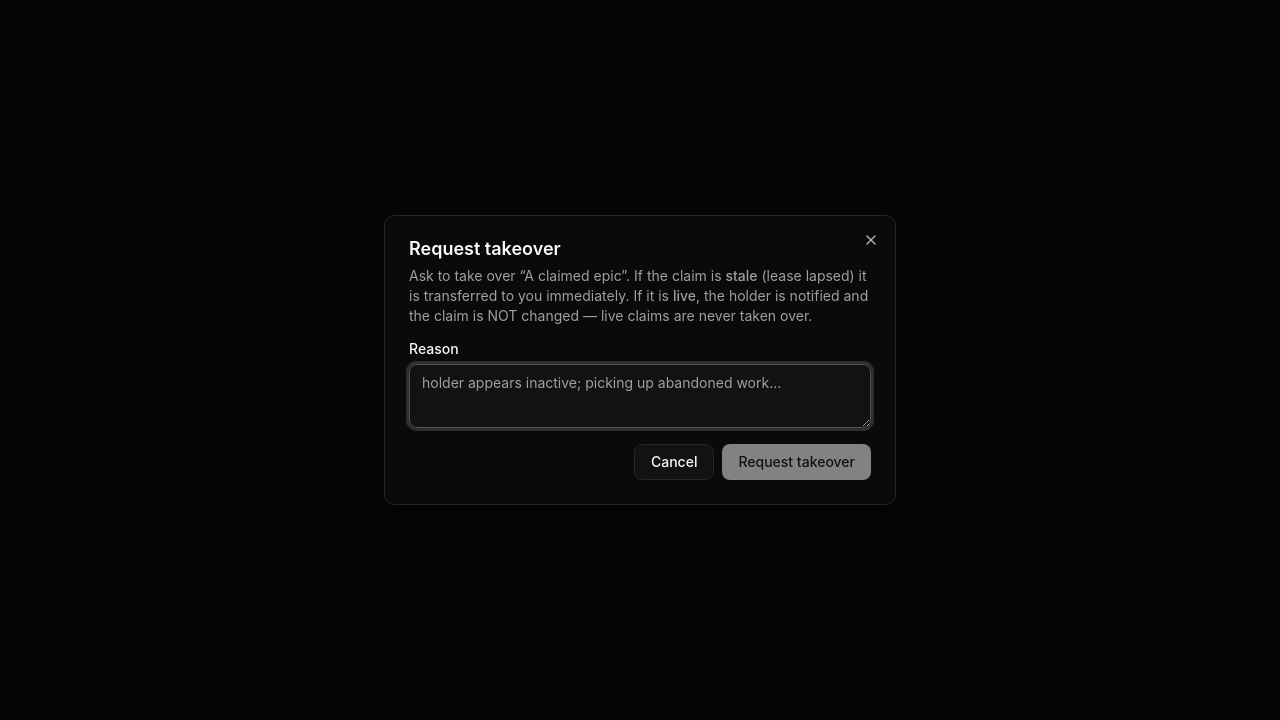
Scenario: RequestTakeoverDialog › requires a reason before submit enables
This screenshot has width=1280, height=720.
Expected: the button "Request takeover" is disabled, [722,444,871,480]
In the text box labelled "Reason": [640, 396] box [409,364,871,428], type "holder inactive"
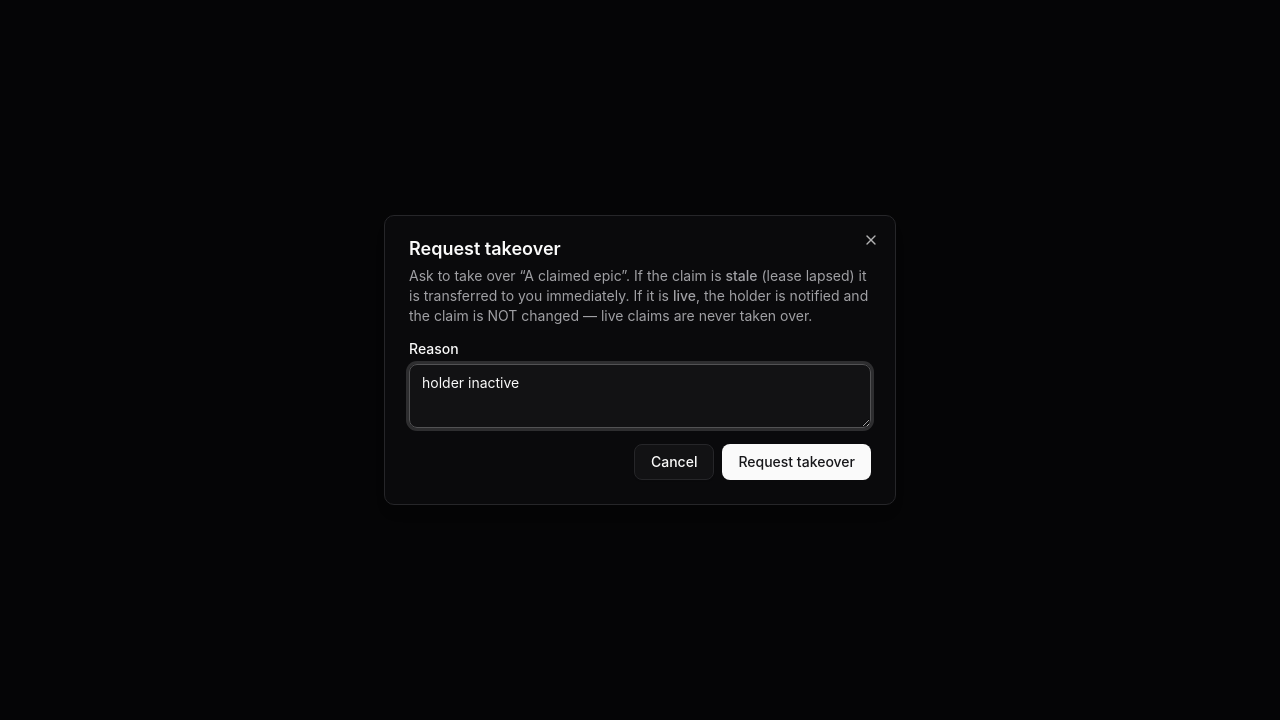
Expected: the button "Request takeover" is enabled, [722,444,871,480]
